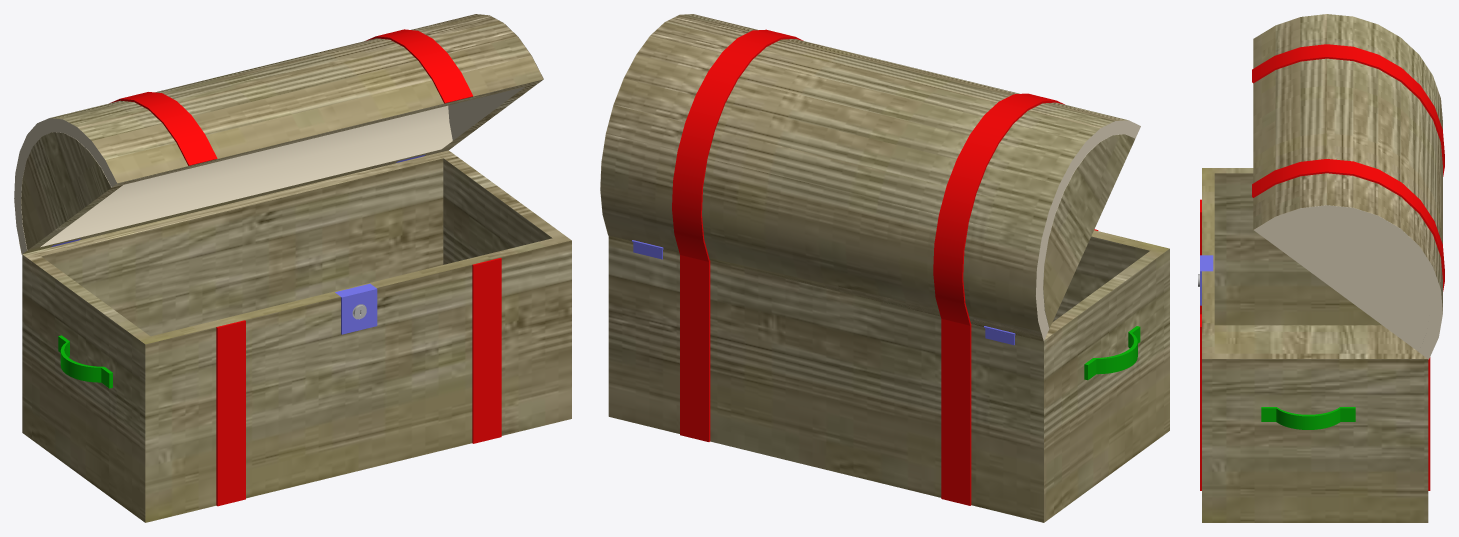
Rendered from toy-chest.glb.
3 renders of one model, left to right at view 1: azimuth 30°, elevation 25°; view 2: azimuth 150°, elevation 25°; view 3: azimuth 270°, elevation 25°, orthographic. The views are drawn at different scales.
Visible parts, largest first — view 1: Geom3D (×8), Geom3D_; view 2: Geom3D (×7), Geom3D_; view 3: Geom3D (×6), Geom3D_ (×2).
Boxes of the visible parts, x1,y1,x2,y2 form: Geom3D (×8): (14,14,571,522); Geom3D_: (216,258,501,506); Geom3D (×7): (600,14,1169,522); Geom3D_: (680,229,1098,505); Geom3D (×6): (1200,14,1444,522); Geom3D_ (×2): (1200,199,1442,490).
Size of the model in its own units: 0.8382 by 0.594 by 0.4157.
Materials: 7 (1 with a texture image).
